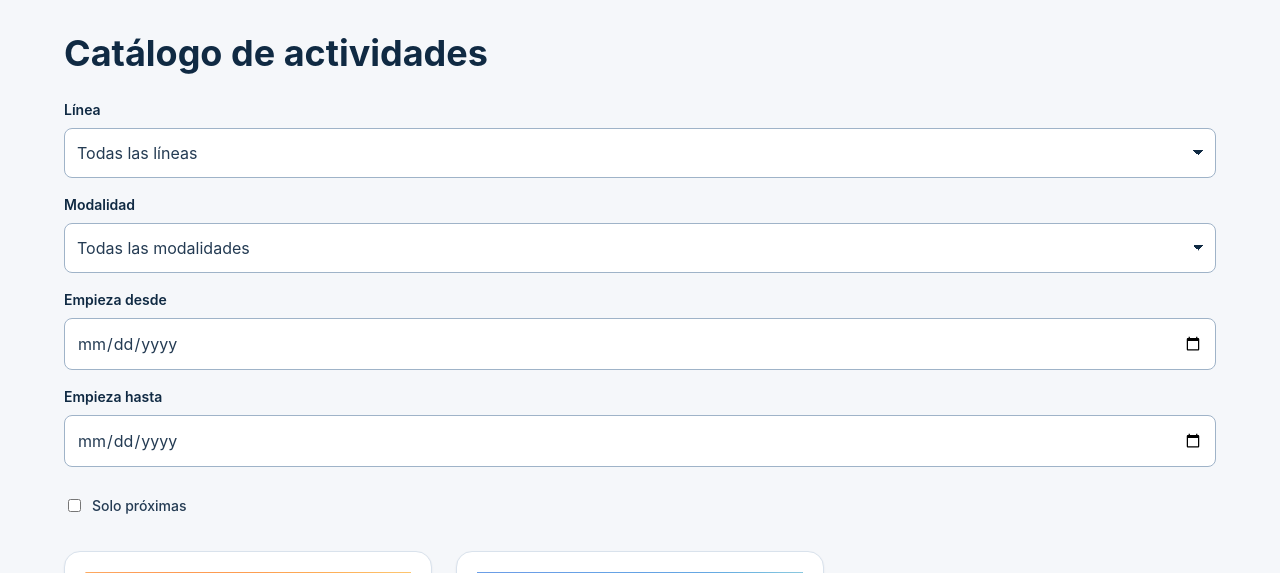
it: CatalogPage › muestra todas por defecto y pide solo las próximas al marcar «Solo próximas»
The image size is (1280, 573).
Click the checkbox labelled "Solo próximas" at {"x": 74, "y": 505}, box [68,499,81,512]
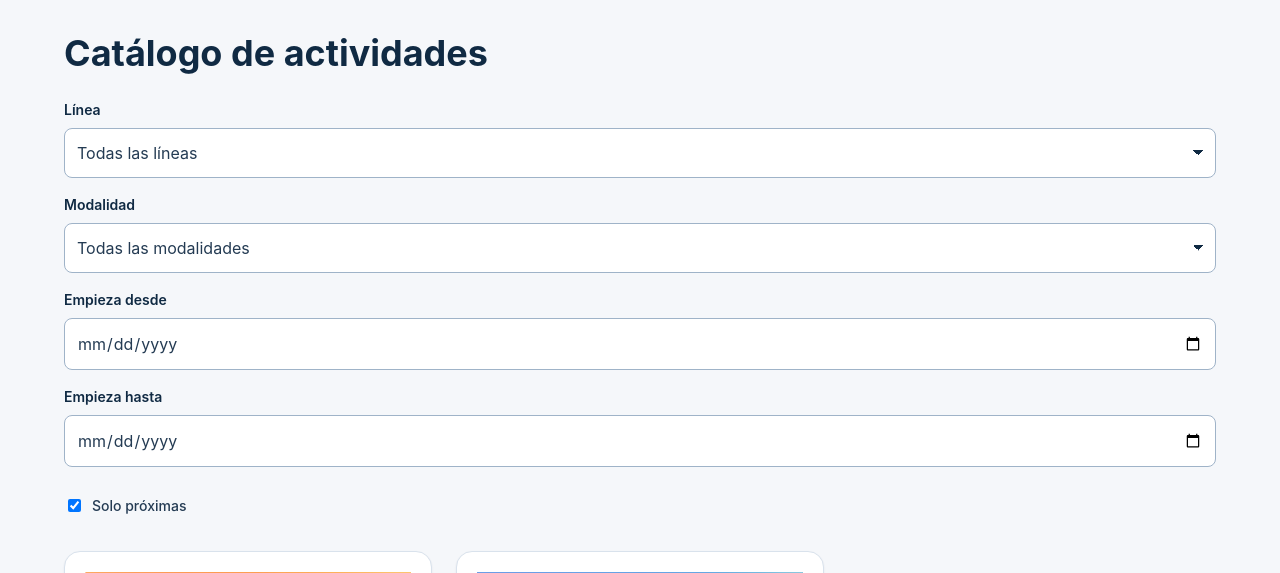
expect the checkbox labelled "Solo próximas" is checked: met, box [68,499,81,512]
